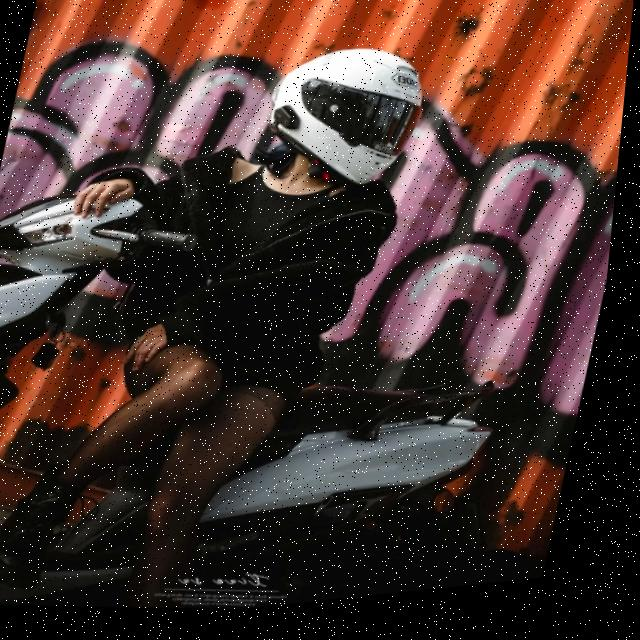helmet: (248, 35, 445, 218)
